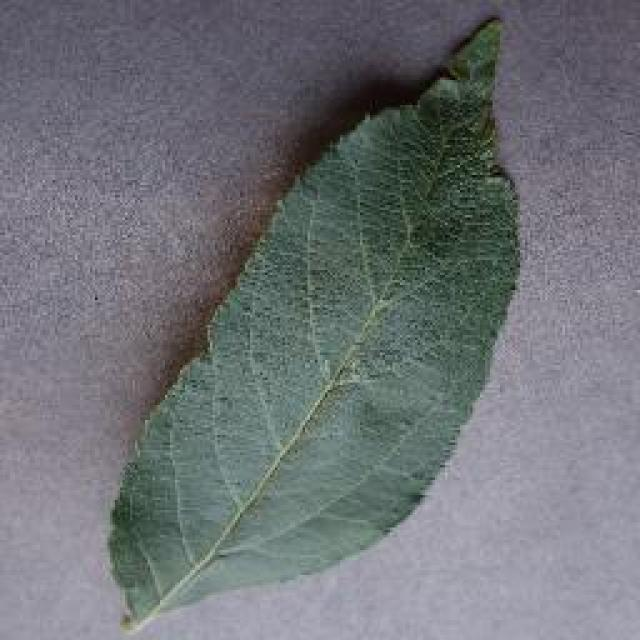apple healthy: (102, 15, 522, 633)
